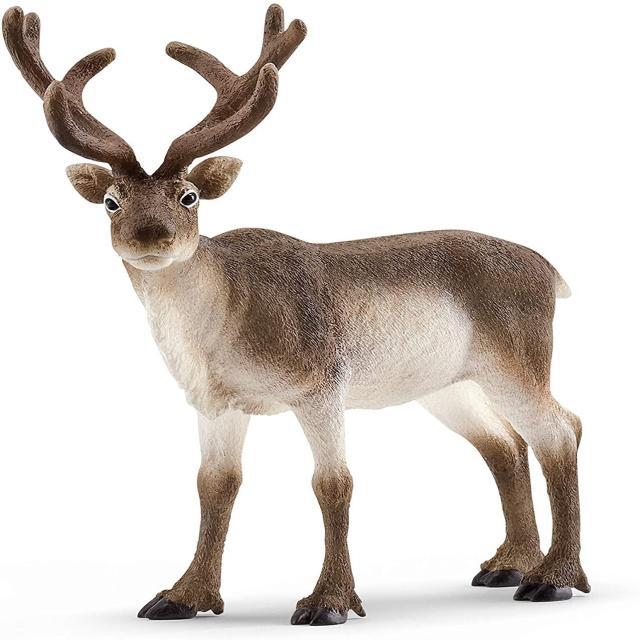Deer: (7, 11, 608, 623)
